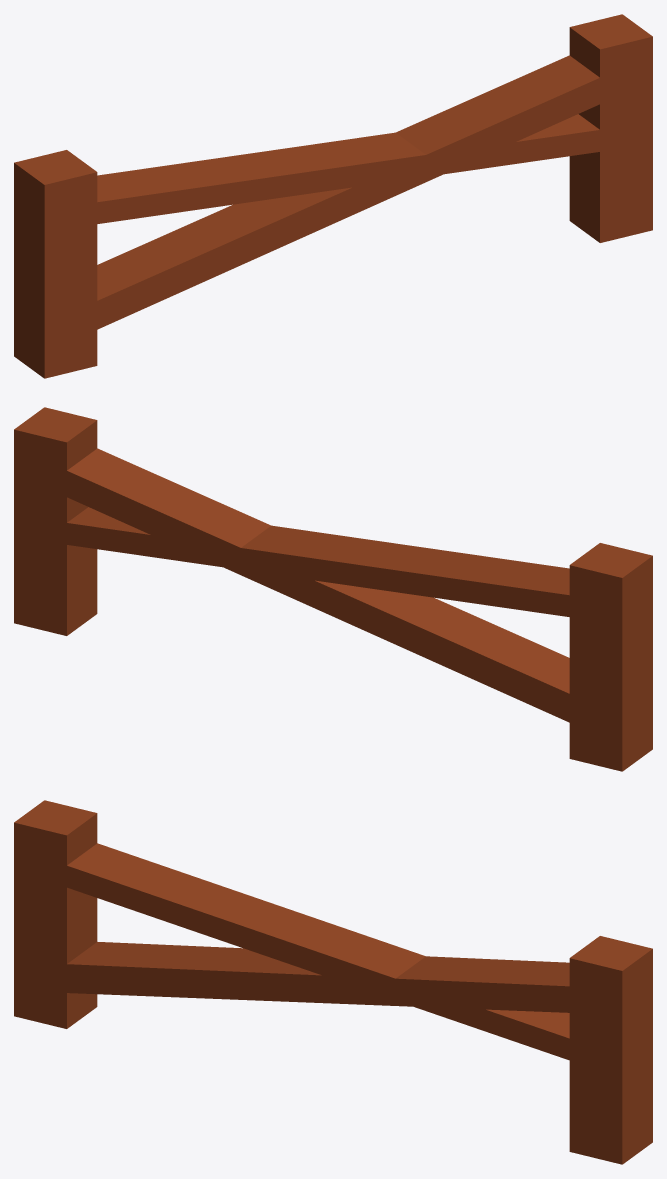
File: fence1.2.fbx
3 views of the same model, one above another, from view 1: azimuth 30°, elevation 25°; view 2: azimuth 150°, elevation 25°; view 3: azimuth 330°, elevation 25° (orthographic).
Visible parts, largest first — view 1: Cube.001; view 2: Cube.001; view 3: Cube.001.
Boxes of the visible parts, bbox=[...] form: Cube.001: bbox=[14, 14, 652, 378]; Cube.001: bbox=[14, 407, 652, 771]; Cube.001: bbox=[14, 800, 652, 1164].
Bounding box in the file's own units: 2300 × 700 × 200.
